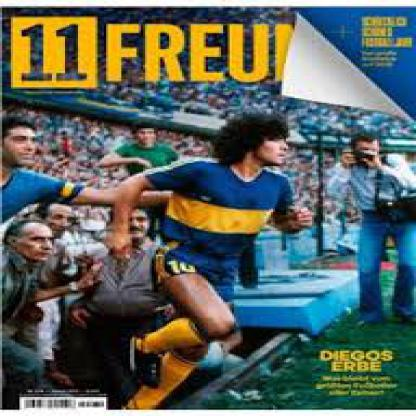paper: (0, 5, 414, 406)
